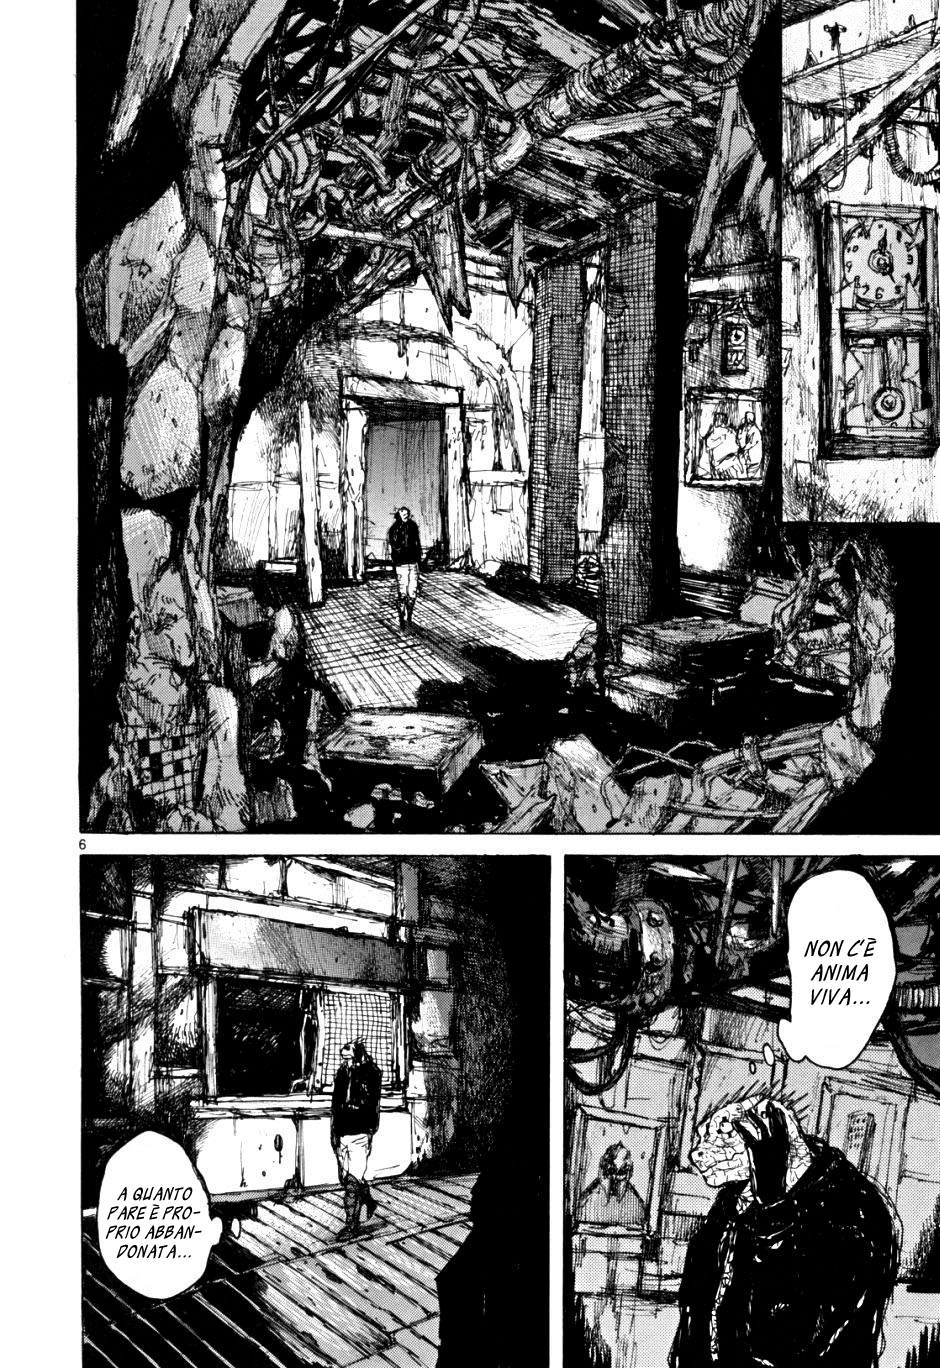Baloon: (761, 865, 906, 1077), (96, 1125, 252, 1300)
Vignetta: (79, 1, 940, 836), (79, 854, 554, 1368), (563, 854, 940, 1367)
